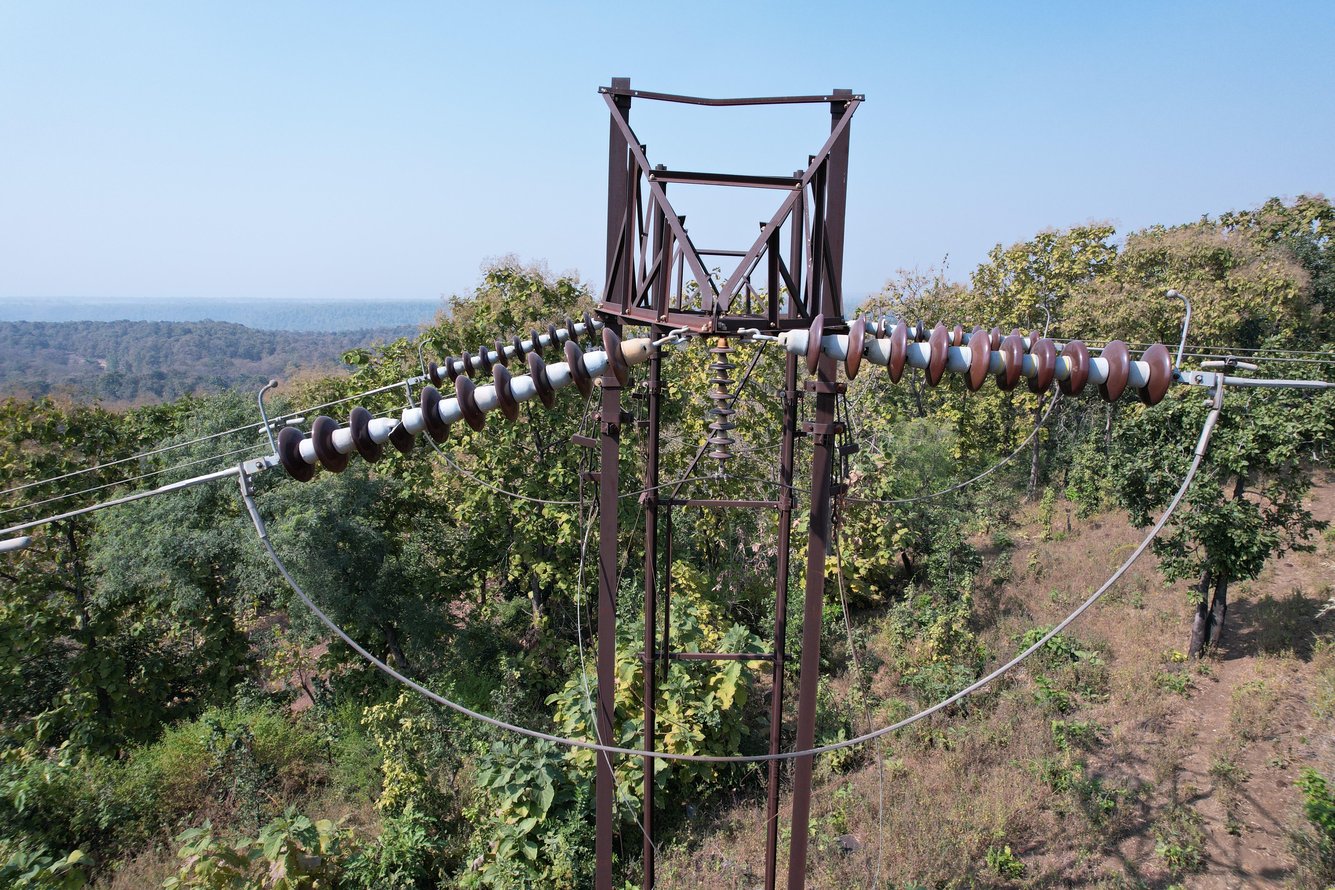broken_insulator: (385, 402, 415, 454), (875, 315, 887, 339)
